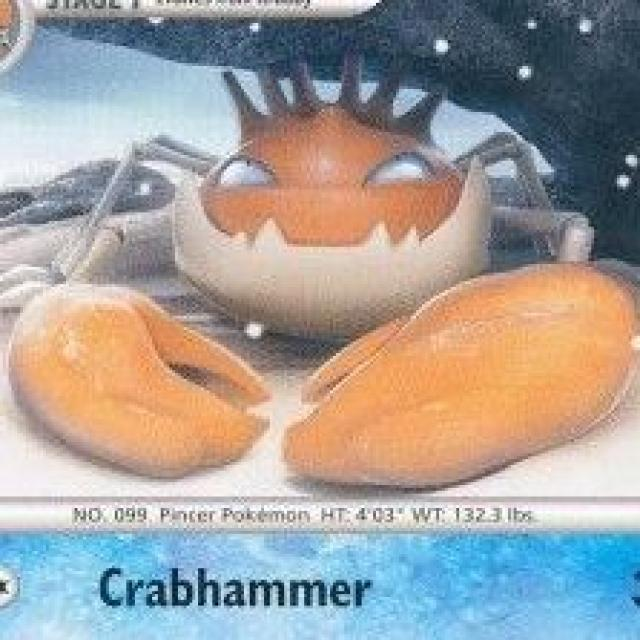Kingler: (19, 68, 640, 481)
